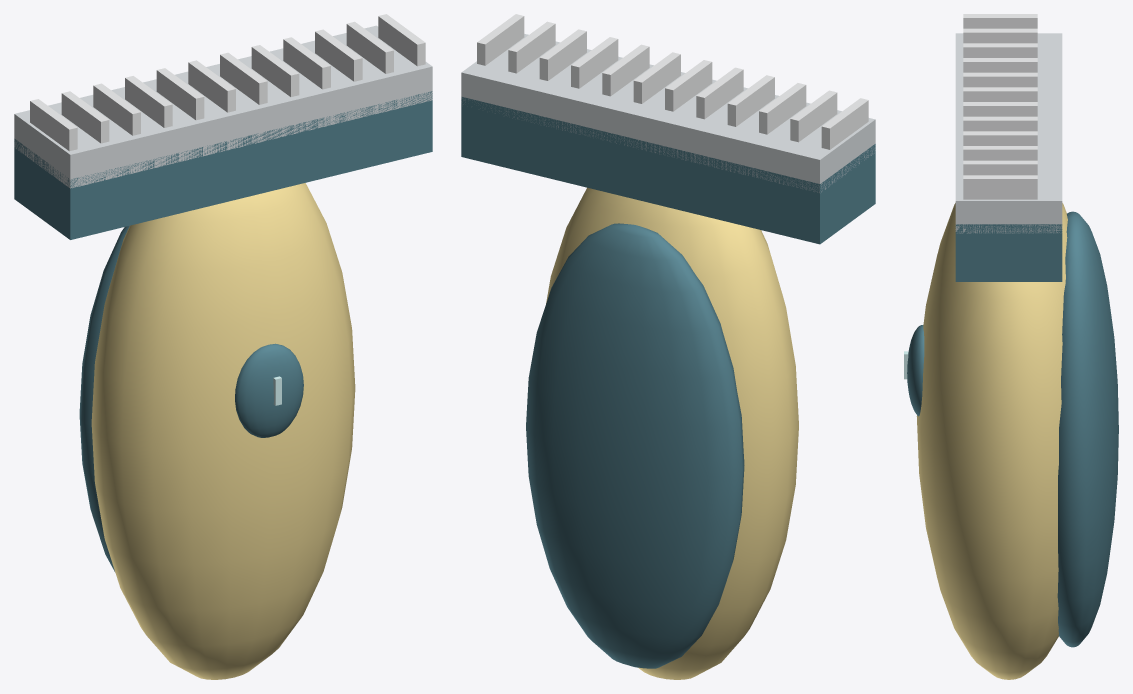
File: wide.glb
3 views of the same model, side by side, from view 1: azimuth 30°, elevation 25°; view 2: azimuth 150°, elevation 25°; view 3: azimuth 270°, elevation 25° (orthographic). The views are drawn at different scales.
Visible parts, largest first — view 1: Grip, Blade_mount, Blade_plate, Power_button, Rubber_back, Tooth_1, Tooth_4, Tooth_7, Tooth_6, Tooth_0, Tooth_2, Tooth_9 (+5 smaller); view 2: Rubber_back, Grip, Blade_mount, Blade_plate, Tooth_0, Tooth_1, Tooth_3, Tooth_4, Tooth_7, Tooth_10, Tooth_5, Tooth_8 (+4 smaller); view 3: Grip, Rubber_back, Blade_plate, Blade_mount, Tooth_11, Power_button, Tooth_1, Tooth_4, Tooth_7, Tooth_10, Tooth_0, Tooth_2 (+5 smaller).
Part boxes in pixels (bbox=[...]): Grip: bbox=[91, 183, 355, 679]; Blade_mount: bbox=[14, 91, 432, 239]; Blade_plate: bbox=[14, 25, 432, 188]; Power_button: bbox=[235, 343, 303, 437]; Rubber_back: bbox=[79, 226, 129, 571]; Tooth_1: bbox=[61, 91, 109, 143]; Tooth_4: bbox=[156, 68, 204, 120]; Tooth_7: bbox=[251, 45, 299, 96]; Tooth_6: bbox=[220, 52, 267, 104]; Tooth_0: bbox=[30, 99, 77, 151]; Tooth_2: bbox=[93, 83, 140, 135]; Tooth_9: bbox=[315, 29, 362, 81]; Rubber_back: bbox=[526, 223, 744, 668]; Grip: bbox=[546, 187, 798, 679]; Blade_mount: bbox=[461, 97, 875, 244]; Blade_plate: bbox=[461, 34, 875, 192]; Tooth_0: bbox=[821, 98, 868, 149]; Tooth_1: bbox=[790, 90, 837, 142]; Tooth_3: bbox=[727, 75, 774, 126]; Tooth_4: bbox=[696, 67, 743, 119]; Tooth_7: bbox=[602, 44, 649, 96]; Tooth_10: bbox=[508, 21, 555, 73]; Tooth_5: bbox=[665, 60, 712, 111]; Tooth_8: bbox=[571, 37, 618, 88]; Grip: bbox=[916, 203, 1067, 679]; Rubber_back: bbox=[1057, 211, 1118, 647]; Blade_plate: bbox=[955, 33, 1062, 233]; Blade_mount: bbox=[955, 224, 1062, 281]; Tooth_11: bbox=[963, 175, 1037, 199]; Power_button: bbox=[907, 325, 924, 416]; Tooth_1: bbox=[963, 28, 1037, 43]; Tooth_4: bbox=[963, 72, 1037, 87]; Tooth_7: bbox=[963, 116, 1037, 131]; Tooth_10: bbox=[963, 160, 1037, 175]; Tooth_0: bbox=[963, 14, 1037, 28]; Tooth_2: bbox=[963, 43, 1037, 57].
Bounding box in the file's own units: 0.56 × 0.898 × 0.303.
